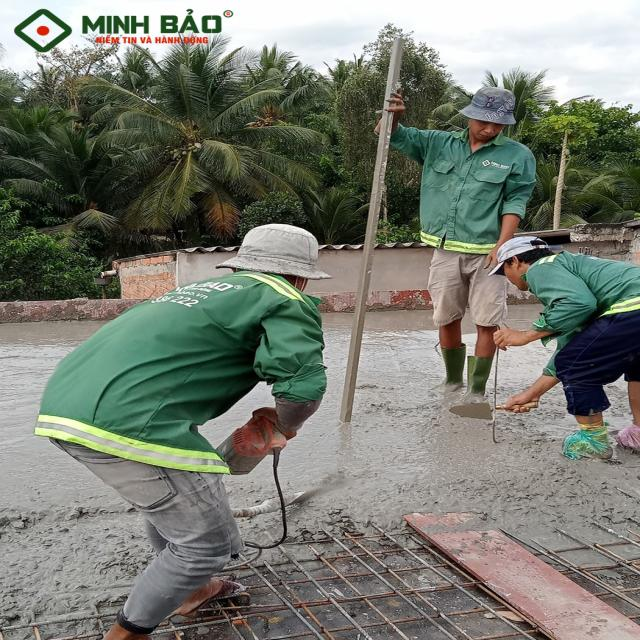no_boots: (149, 580, 252, 622), (568, 432, 612, 466), (613, 421, 640, 451)
no_gloves: (500, 389, 548, 419), (495, 323, 538, 352), (376, 84, 405, 122), (488, 244, 505, 274)
no_hardhat: (236, 215, 323, 298), (491, 236, 551, 290), (462, 90, 520, 141)
no_vest: (33, 266, 324, 467), (418, 119, 533, 249), (522, 248, 640, 339)
person: (46, 221, 324, 640), (374, 86, 552, 409), (491, 238, 640, 470)
